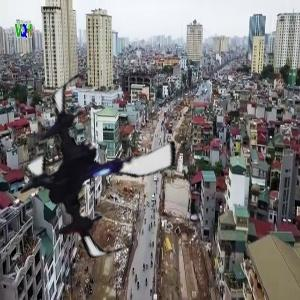drone: (4, 70, 193, 259)
